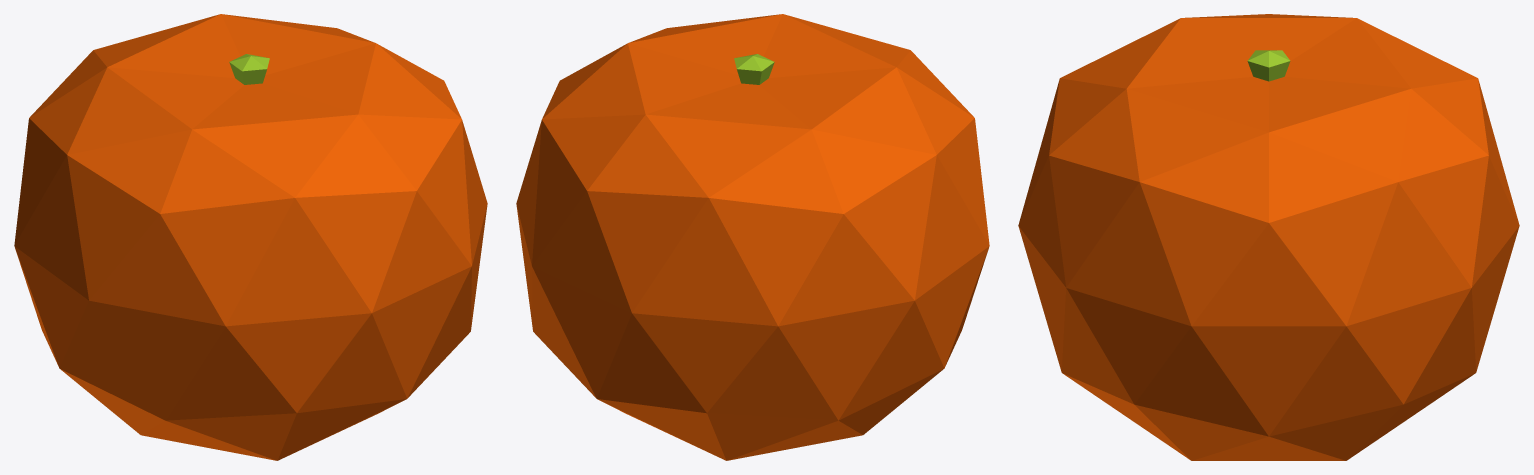
File: OrangeFull.fbx
3 renders of one model, left to right at view 1: azimuth 30°, elevation 25°; view 2: azimuth 150°, elevation 25°; view 3: azimuth 270°, elevation 25°, orthographic. The views are drawn at different scales.
Visible parts, largest first — view 1: OrangeFull; view 2: OrangeFull; view 3: OrangeFull.
Part boxes in pixels (<box>): OrangeFull: <box>14,14,487,460</box>; OrangeFull: <box>516,14,989,460</box>; OrangeFull: <box>1018,14,1519,460</box>.
Bounding box in the file's own units: 194 × 179 × 204.
